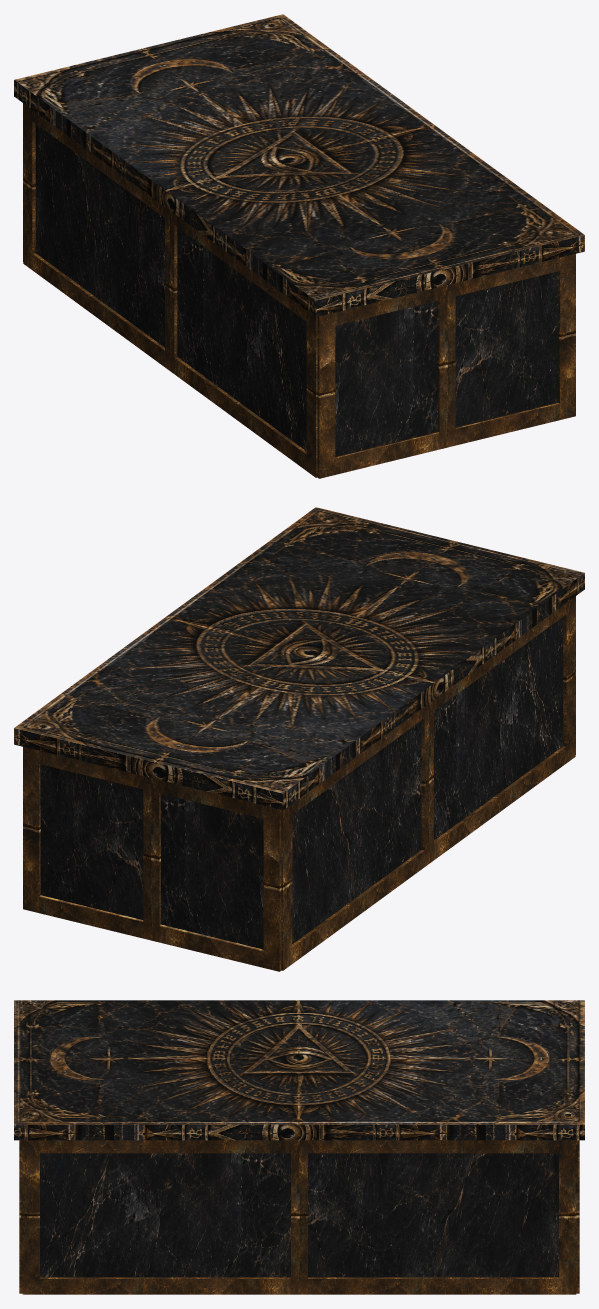
File: sarcophagus.glb
3 renders of one model, top to bottom at view 1: azimuth 30°, elevation 25°; view 2: azimuth 150°, elevation 25°; view 3: azimuth 270°, elevation 25°, orthographic. The views are drawn at different scales.
Parts seen in each view (by area): view 1: sarcophagus_base, sarcophagus_lid; view 2: sarcophagus_base, sarcophagus_lid; view 3: sarcophagus_base, sarcophagus_lid.
Boxes of the visible parts, box(x1,y1,x2,y2) form: sarcophagus_base: box(23, 103, 575, 478); sarcophagus_lid: box(14, 14, 584, 316); sarcophagus_base: box(23, 596, 575, 971); sarcophagus_lid: box(14, 507, 584, 809); sarcophagus_base: box(19, 1140, 579, 1294); sarcophagus_lid: box(14, 1000, 584, 1140).
Size of the model in its own units: 1.7 by 1.1 by 3.3.
Materials: 3 (3 with a texture image).
